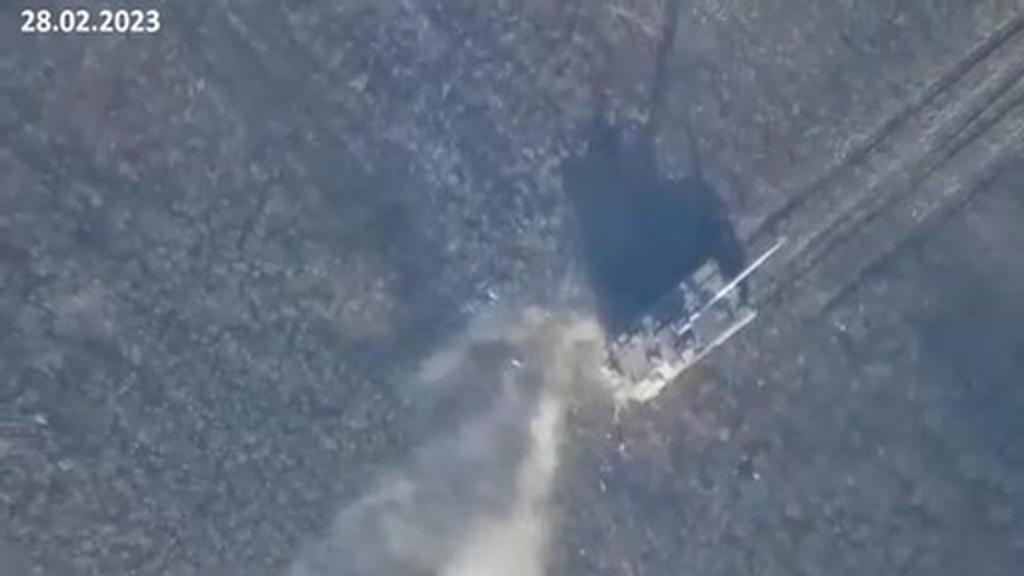ART: (596, 226, 794, 406)
